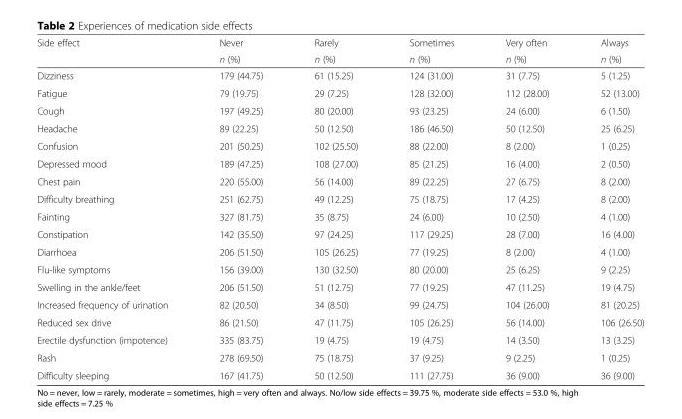table: (36, 36, 643, 380)
table column: (36, 36, 193, 380), (383, 36, 479, 380), (193, 36, 288, 380), (288, 36, 383, 380), (479, 36, 574, 380), (574, 36, 643, 380)
table column header: (36, 36, 643, 66)
table row: (36, 66, 643, 84), (36, 101, 643, 119), (36, 136, 643, 154), (36, 154, 643, 172), (36, 189, 643, 207), (36, 207, 643, 225), (36, 242, 643, 260), (36, 260, 643, 278), (36, 295, 643, 313), (36, 330, 643, 348), (36, 348, 643, 366), (36, 84, 643, 101), (36, 119, 643, 136), (36, 172, 643, 189), (36, 225, 643, 242), (36, 278, 643, 295), (36, 313, 643, 330), (36, 50, 643, 66), (36, 36, 643, 50), (36, 366, 643, 380)
table spanning cell: (36, 36, 193, 66), (383, 36, 479, 66), (193, 36, 288, 66), (288, 36, 383, 66), (479, 36, 574, 66), (574, 36, 643, 66)
